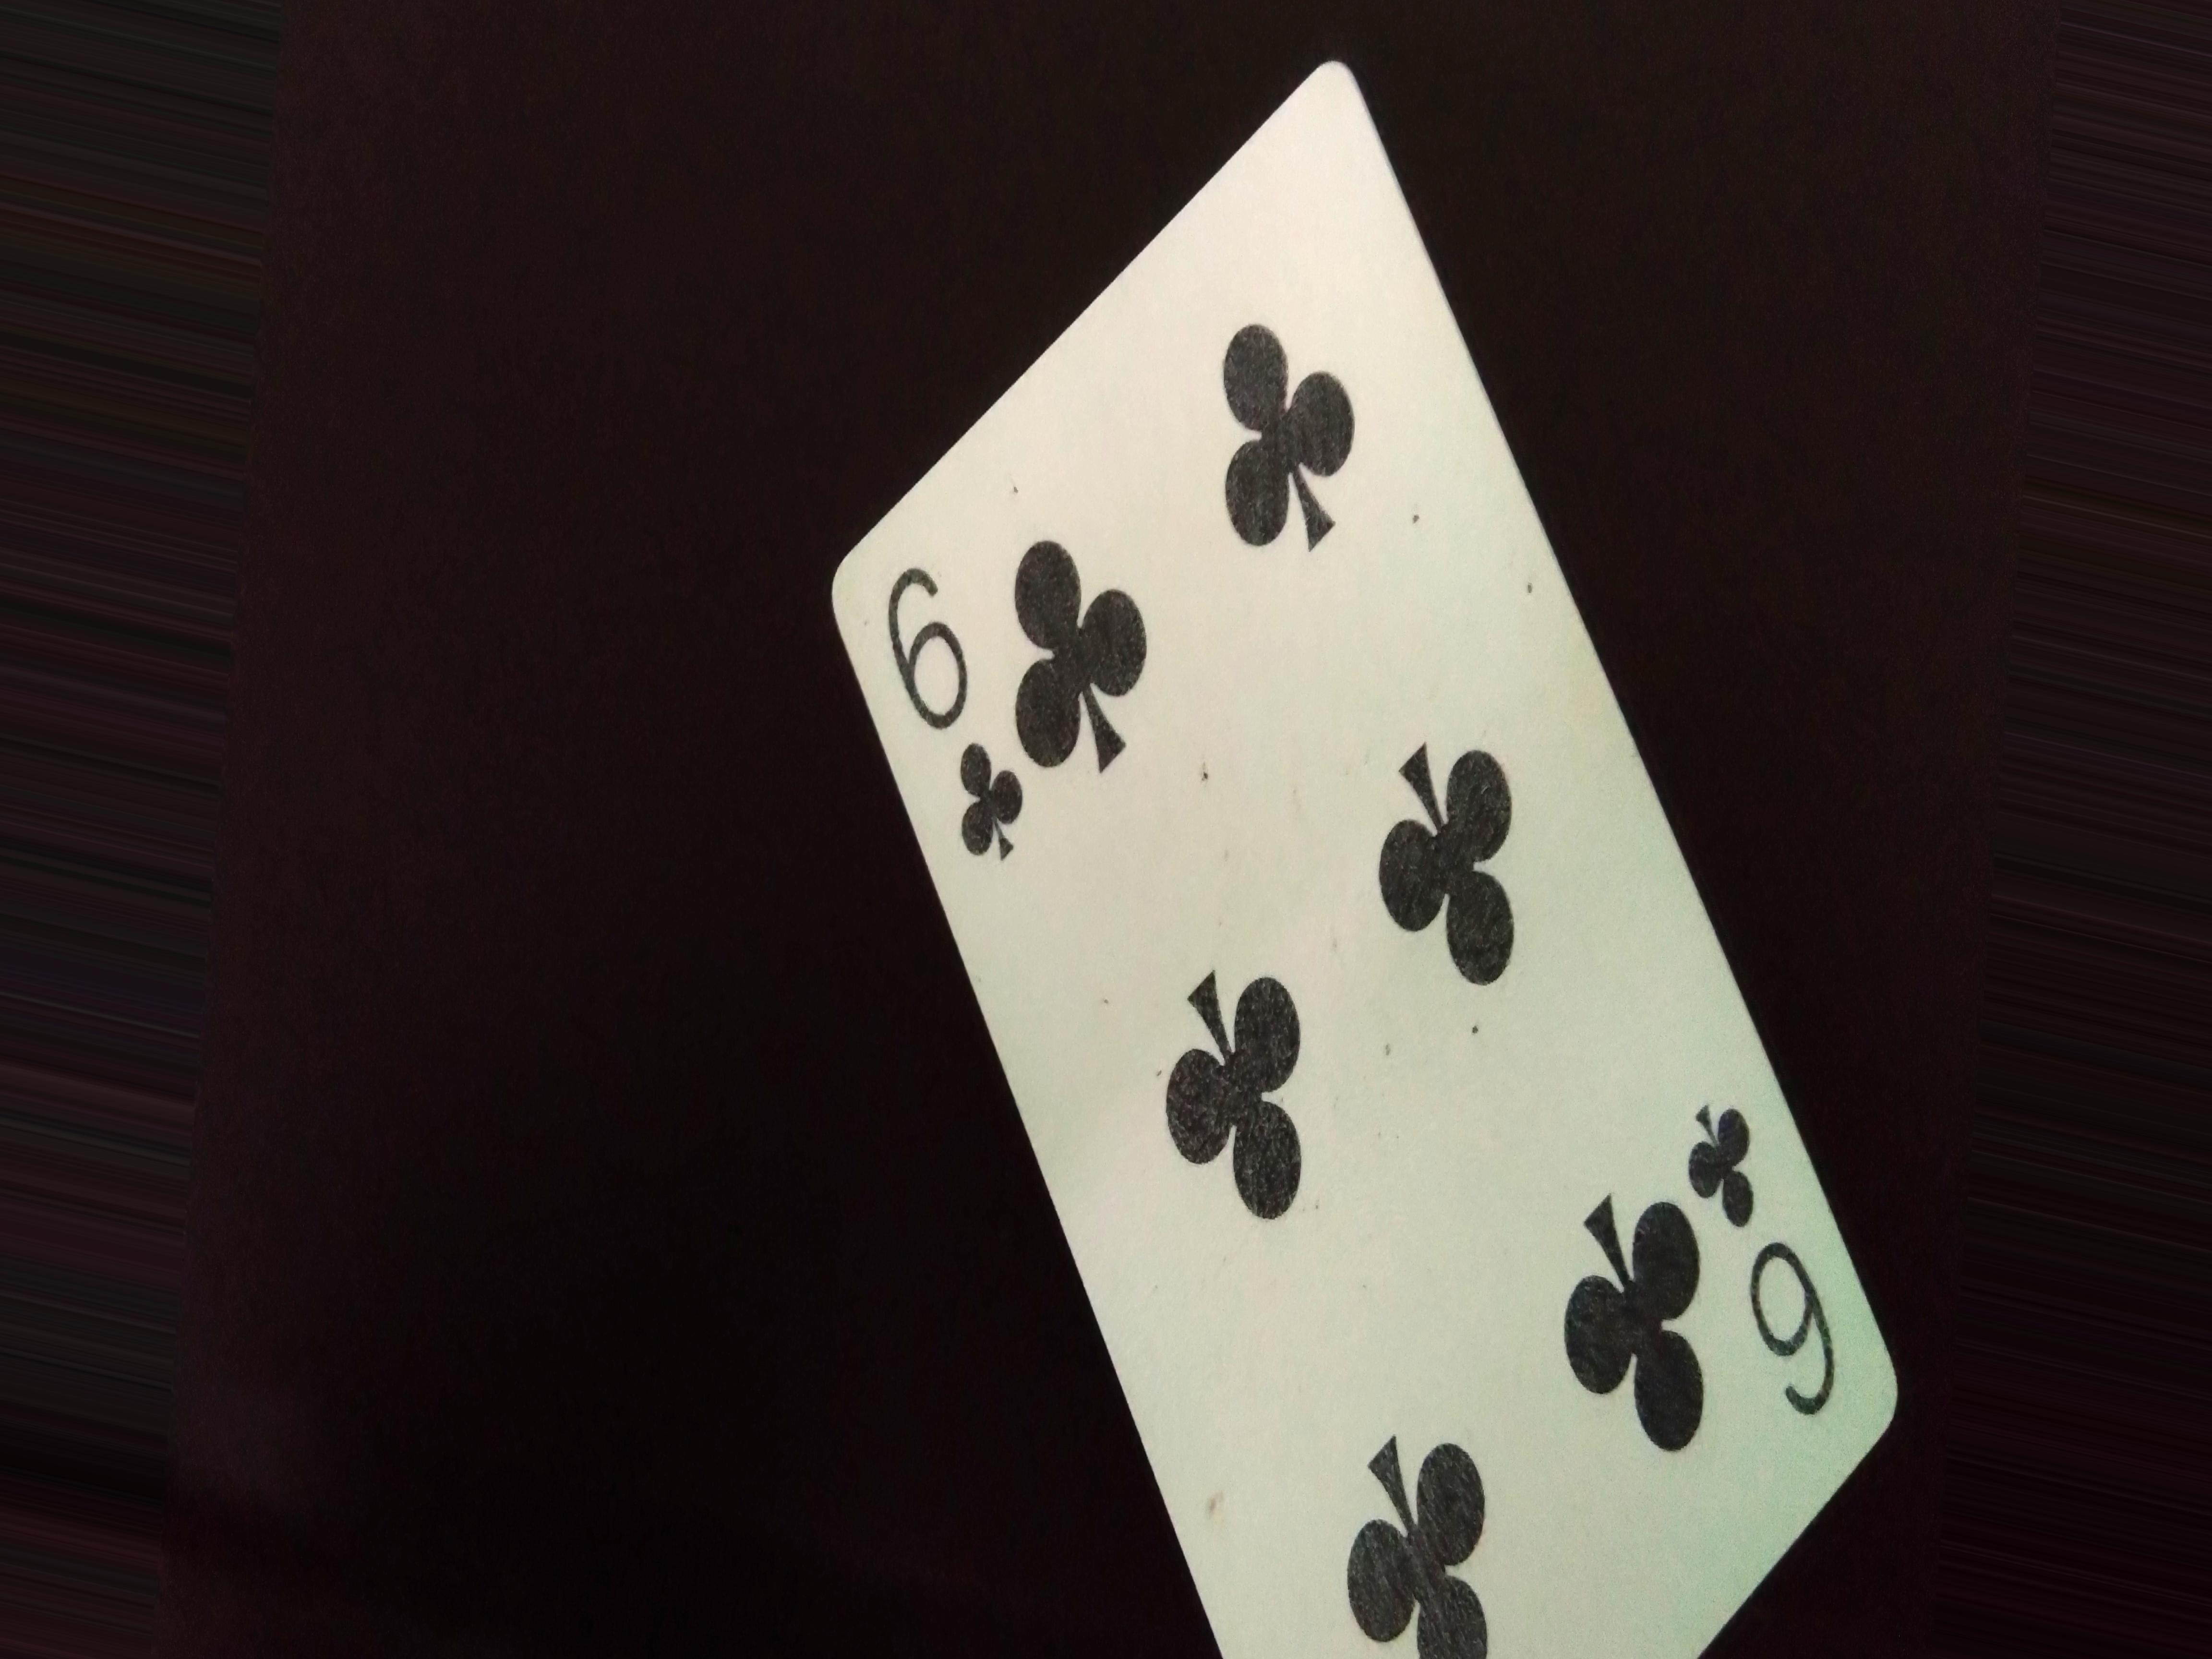6C: (883, 549, 1029, 889)
